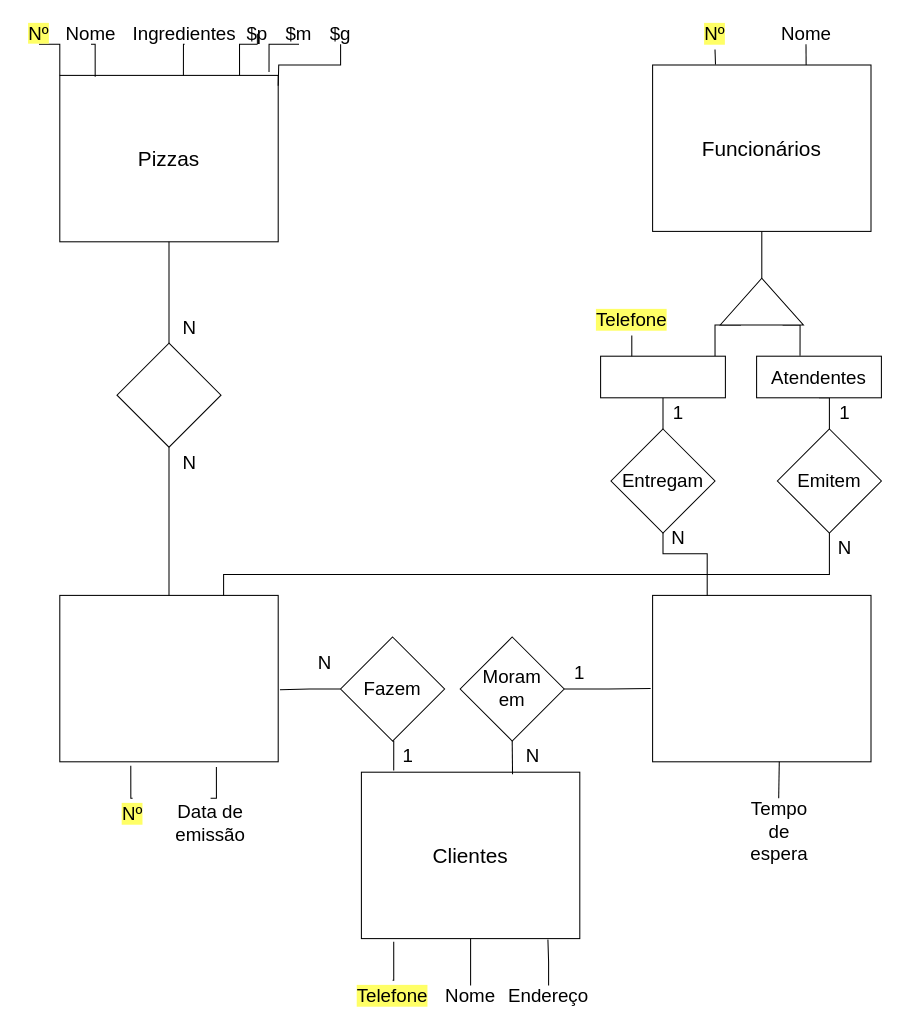
The diagram is 900 pixels wide and 1029 high, and some of its shapes have lost their labels. The box of each missing label's shape, as (x1, y1, x2, y2) in pixels:
Bairros: (652, 594, 871, 762)
Motoristas: (600, 355, 725, 398)
Pedidos: (59, 594, 278, 762)
Têm: (116, 342, 221, 447)
